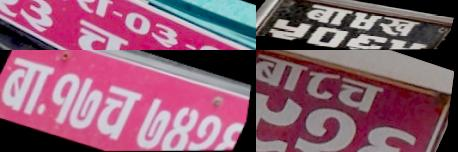0: (303, 23, 356, 50), (120, 11, 156, 38), (195, 43, 231, 50)
1: (38, 66, 88, 128)
2: (284, 98, 372, 152), (181, 106, 232, 151), (0, 0, 32, 20)
3: (11, 0, 66, 35), (149, 22, 185, 50)
4: (157, 100, 206, 151), (342, 9, 389, 34), (380, 36, 436, 50)
5: (261, 15, 320, 43)
6: (347, 117, 433, 152), (207, 114, 249, 151), (342, 30, 396, 50)
7: (61, 72, 114, 138), (128, 91, 182, 151)
8: (299, 65, 346, 105)
9: (256, 83, 314, 152)
ba: (0, 50, 61, 124), (256, 50, 314, 96), (297, 1, 358, 28)
cha: (85, 78, 150, 149), (61, 17, 141, 50), (331, 73, 388, 117)
kha: (371, 14, 425, 39)
